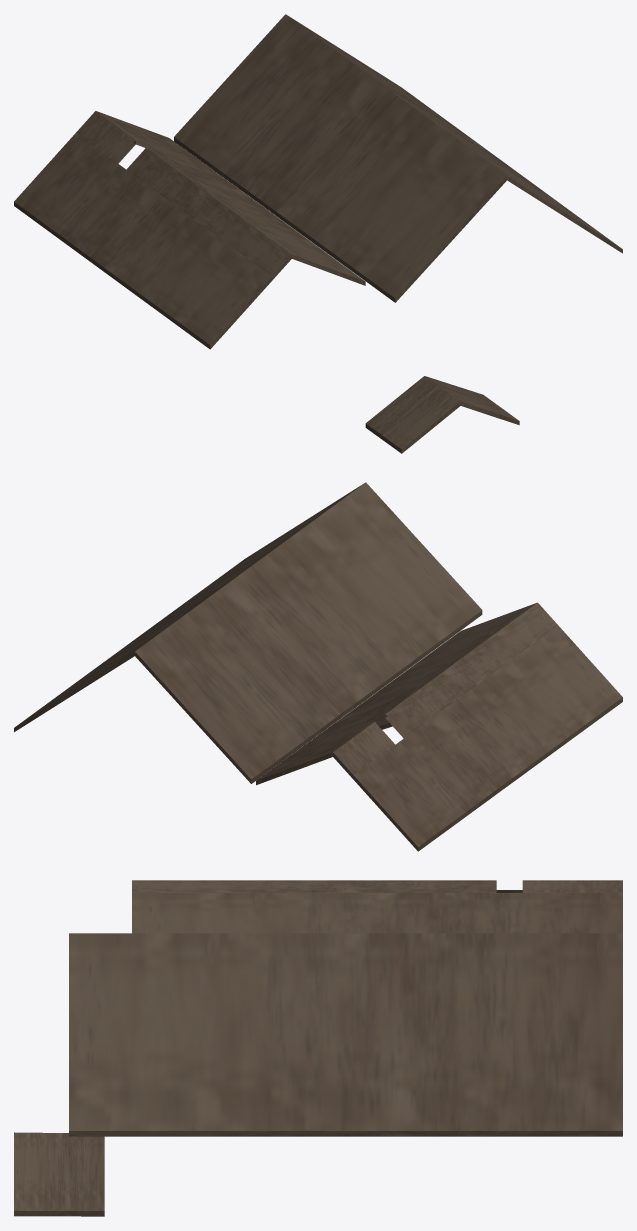
Rendered from BW_Inn01_RoofDeck.fbx.
3 views of the same model, one above another, from view 1: azimuth 30°, elevation 25°; view 2: azimuth 150°, elevation 25°; view 3: azimuth 270°, elevation 25° (orthographic). The views are drawn at different scales.
Visible parts, largest first — view 1: BW_Inn01_RoofDeck; view 2: BW_Inn01_RoofDeck; view 3: BW_Inn01_RoofDeck.
Boxes of the visible parts, x1=… form: BW_Inn01_RoofDeck: x1=14, y1=14, x2=622, y2=453; BW_Inn01_RoofDeck: x1=14, y1=482, x2=622, y2=851; BW_Inn01_RoofDeck: x1=14, y1=880, x2=622, y2=1216.
Size of the model in its own units: 10.2 by 5.81 by 11.1.
